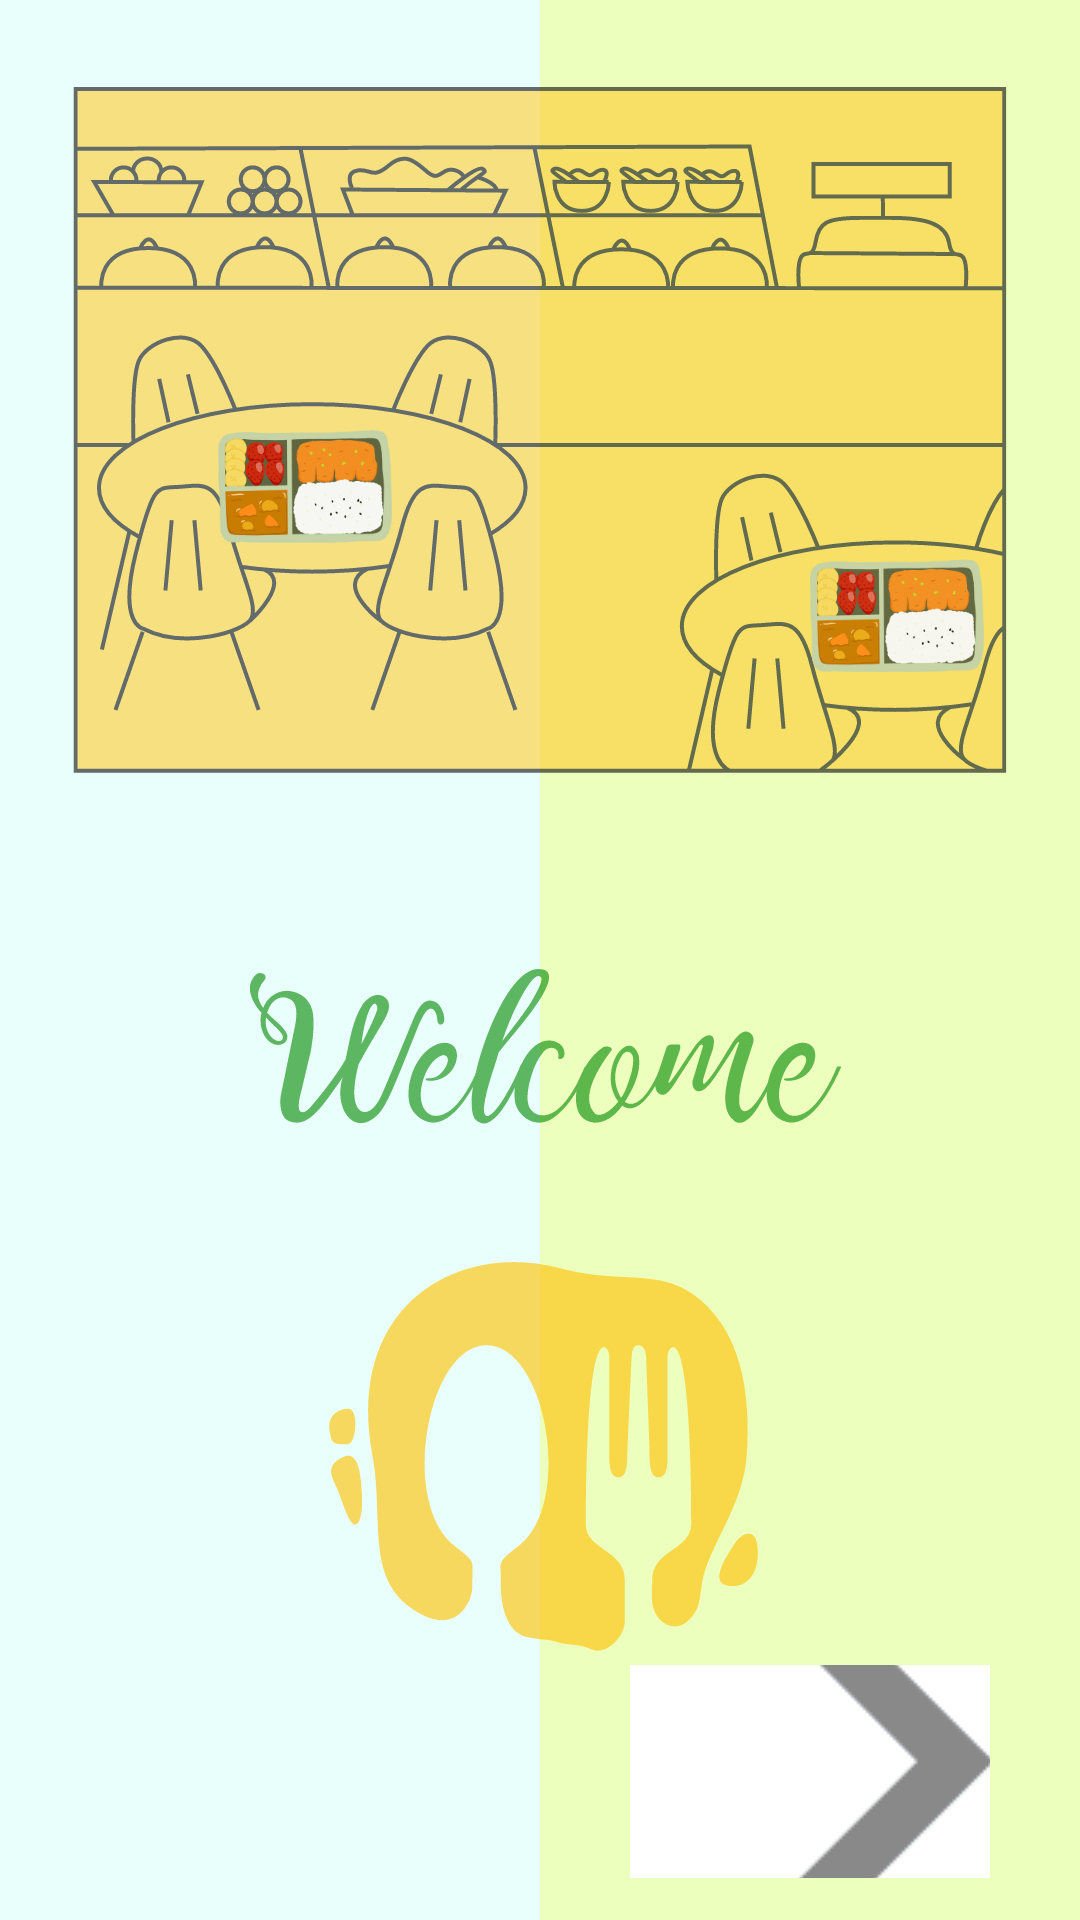

Where icons sit on this 1080 × 1920 app screen, as [left=x1, top=y1, right=x2, bottom=y2]:
arrow: [left=630, top=1665, right=990, bottom=1878]
